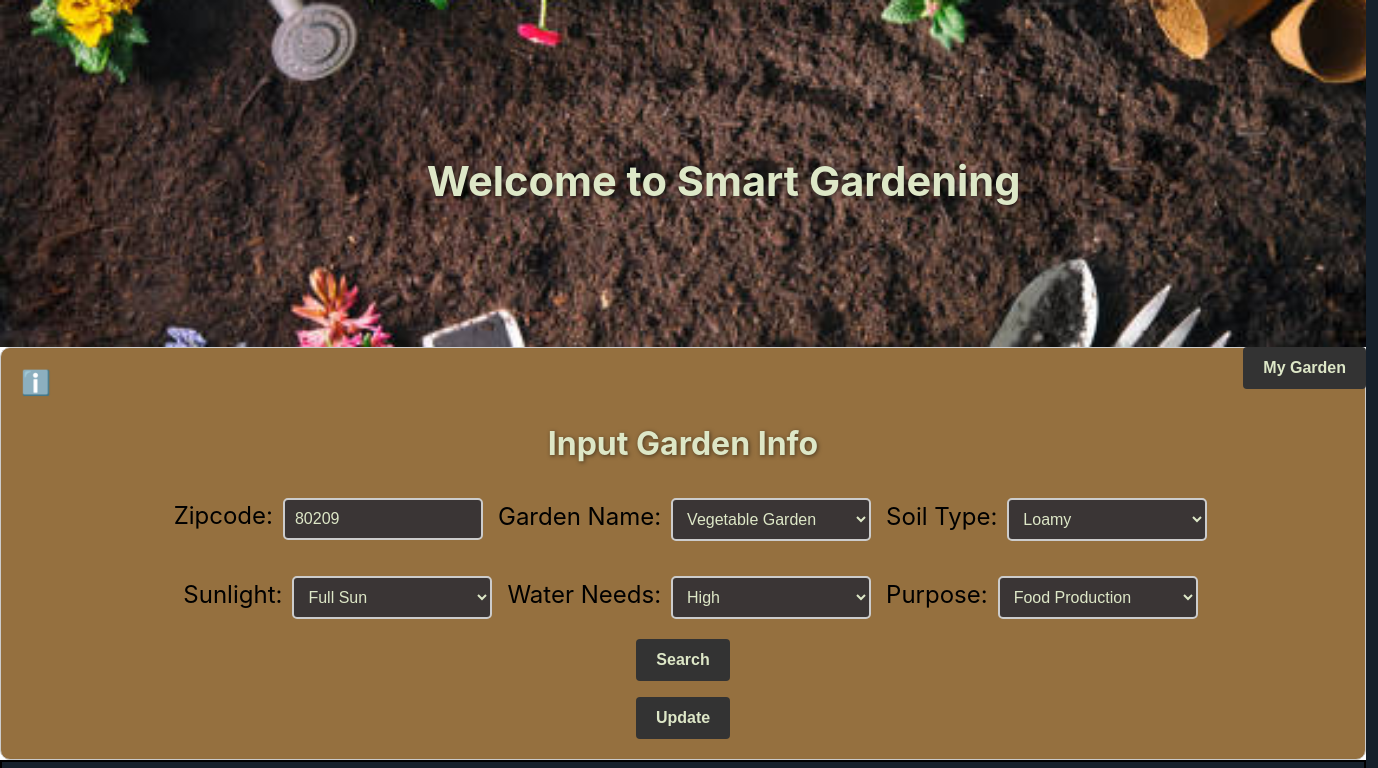
Test: tool tip test › should display the tool tip on hover
The image size is (1378, 768).
Hover over the link with class "info-icon": (36, 383) left=21, top=368, right=51, bottom=397
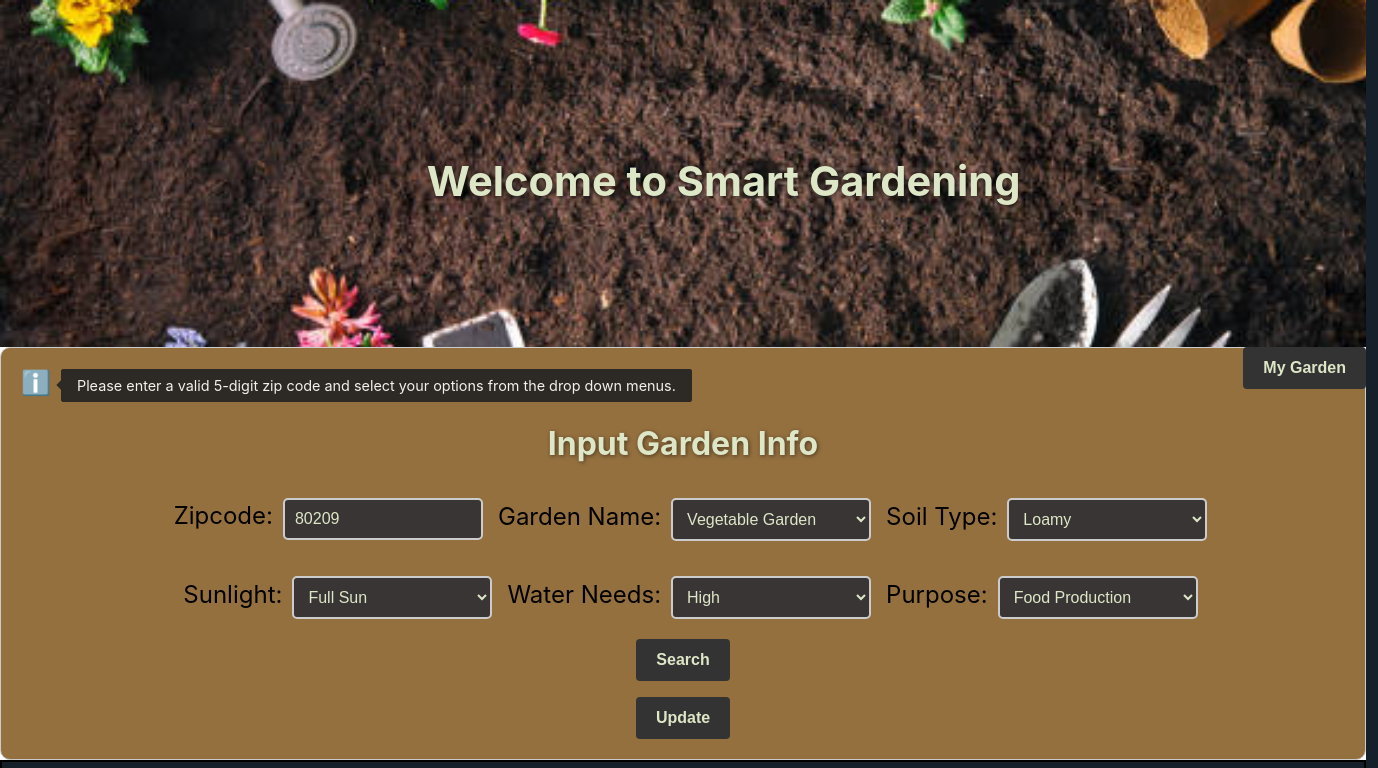
Check: the tooltip is shown, box left=61, top=369, right=692, bottom=402
Check: the text "Please enter a valid 5-digit zip code and select your options from the drop down menus." is shown, box left=77, top=377, right=676, bottom=394
